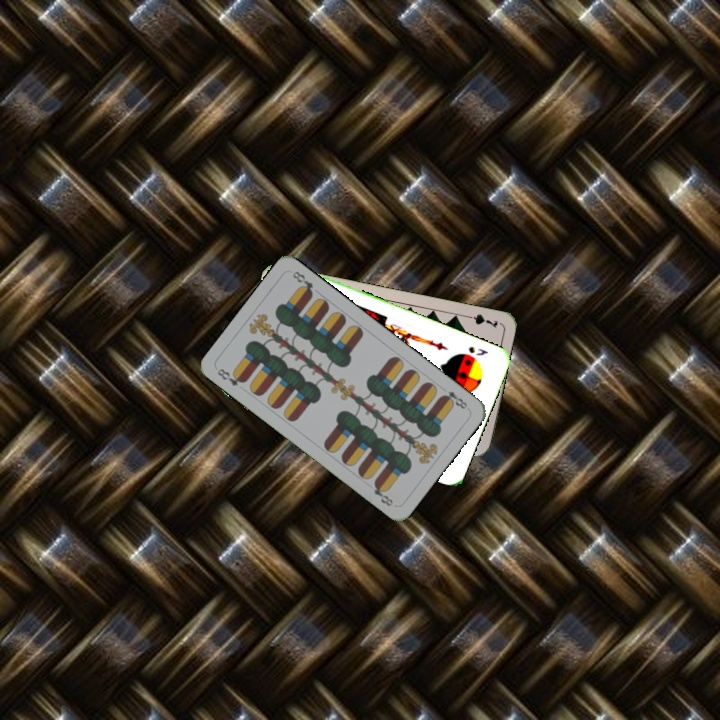E8: (213, 364, 248, 389), (437, 387, 470, 412)
G7: (461, 310, 500, 331)
SK: (464, 342, 491, 358)
